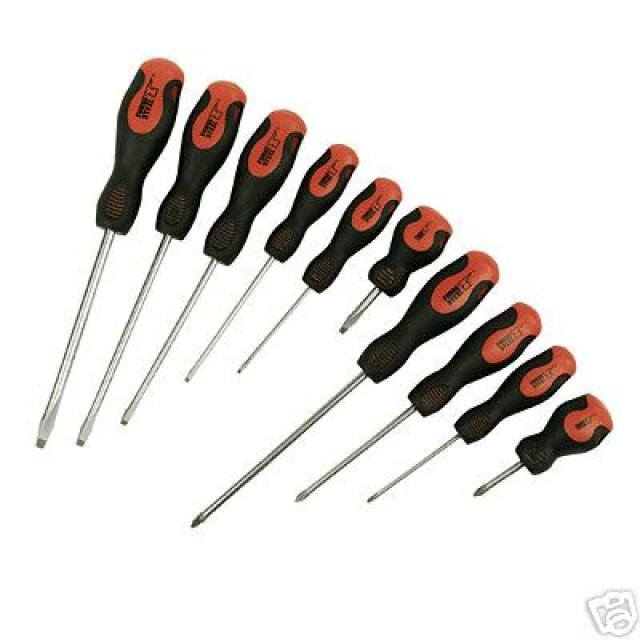screw driver: (18, 37, 191, 493), (450, 388, 640, 546)
